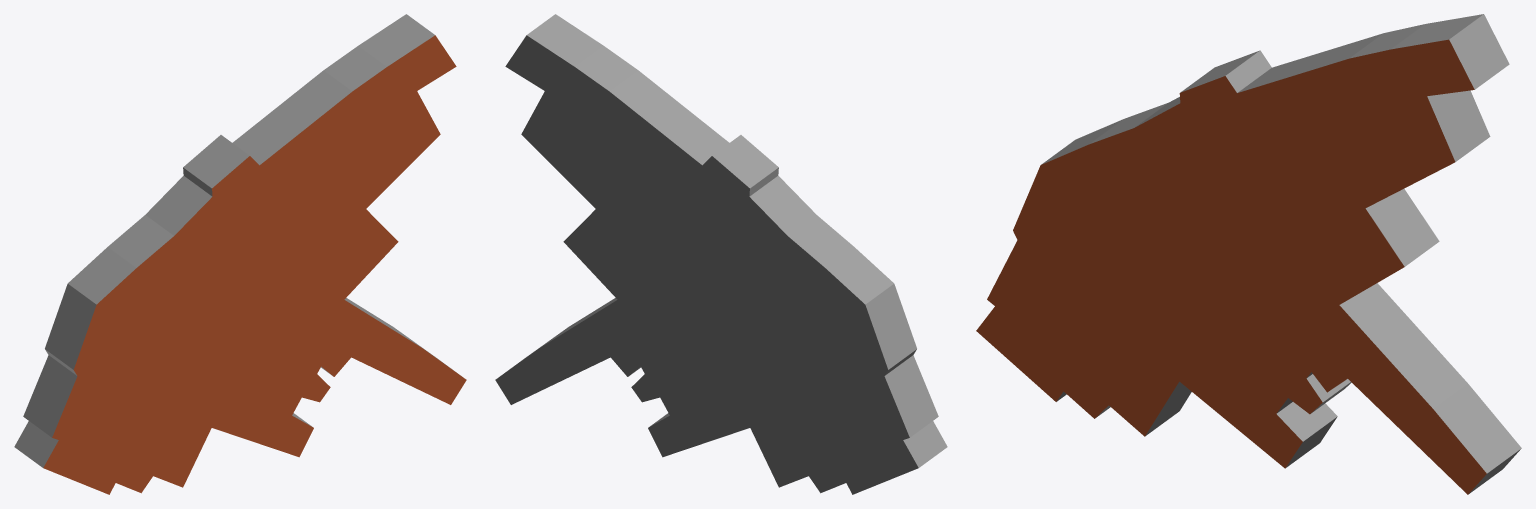
The model's file is construction_3520_assumed_A_Casa_h6m.obj.
3 views of the same model, side by side, from view 1: azimuth 30°, elevation 25°; view 2: azimuth 150°, elevation 25°; view 3: azimuth 330°, elevation 25° (orthographic). The views are drawn at different scales.
Parts seen in each view (by area): view 1: construction_3520_assumed_A_Casa; view 2: construction_3520_assumed_A_Casa; view 3: construction_3520_assumed_A_Casa.
Part boxes in pixels (bbox=[...]): construction_3520_assumed_A_Casa: bbox=[14, 14, 466, 494]; construction_3520_assumed_A_Casa: bbox=[495, 14, 947, 494]; construction_3520_assumed_A_Casa: bbox=[976, 14, 1521, 494].
Bounding box in the file's own units: 50.7 × 44.71 × 6.
